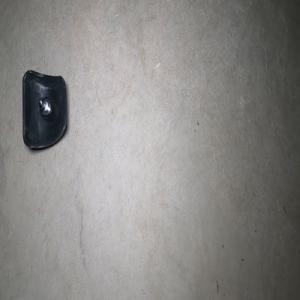LuggagePart: (21, 68, 68, 151)
